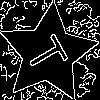T: (23, 28, 77, 78)
